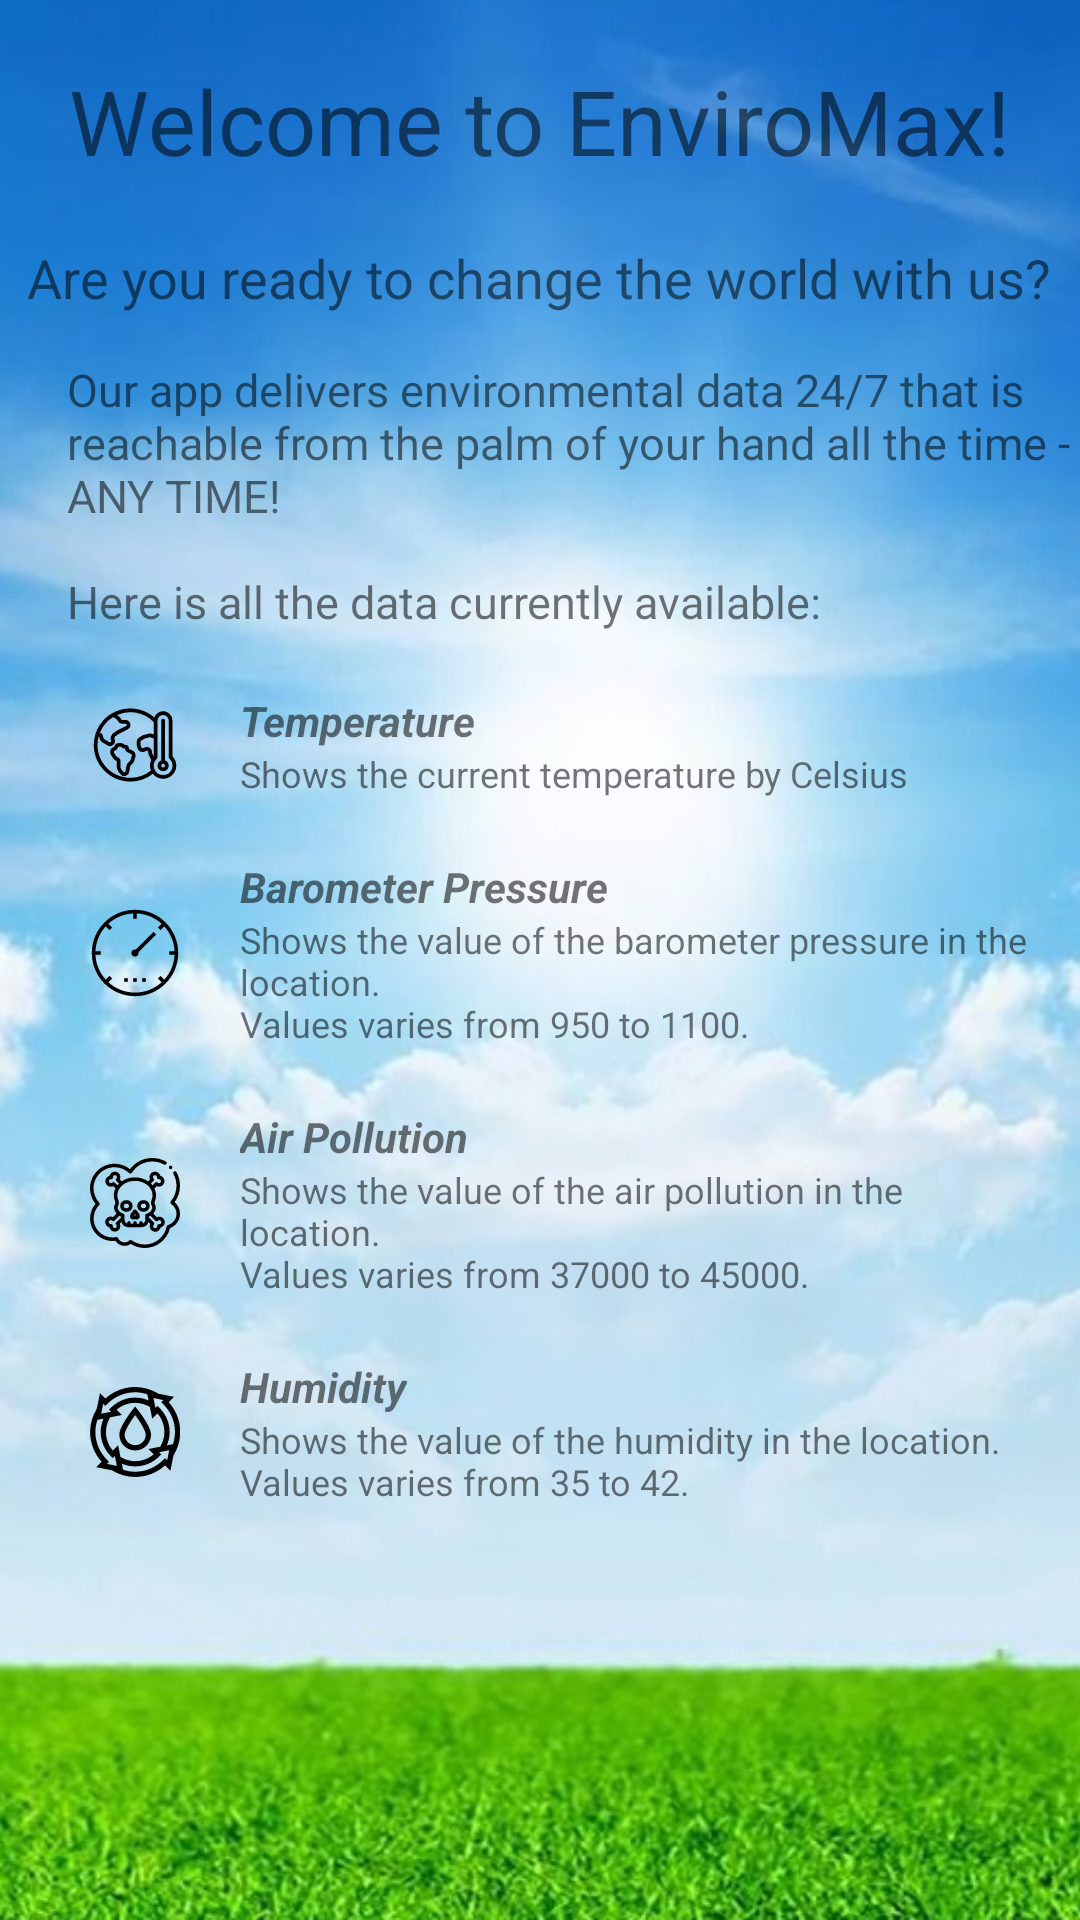

Screen size 1080×1920. Icon name, then its box in pixels as (left=x1, top=y1, right=x2, bottom=y2):
bar pressure: (left=90, top=908, right=180, bottom=998)
